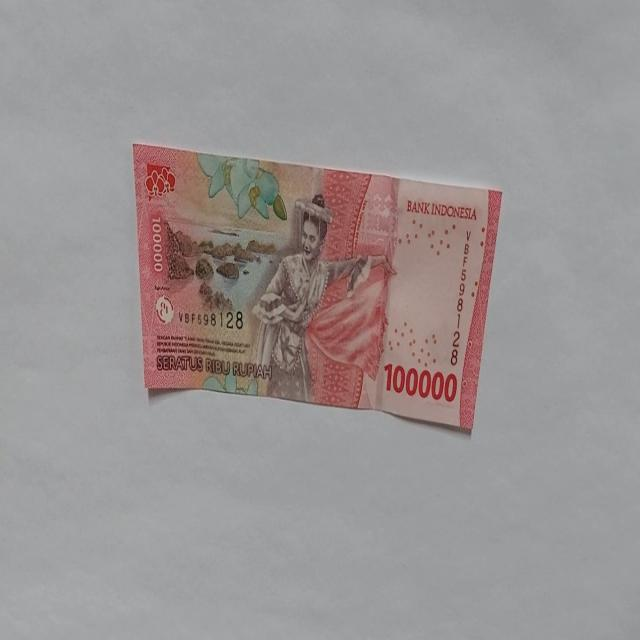seratus ribu rupiah: (132, 142, 502, 435), (248, 193, 374, 404)
